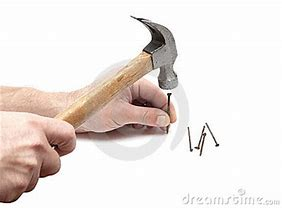hammer: (3, 13, 180, 196)
